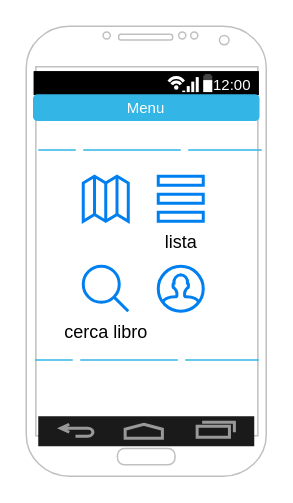
This 293x503 diagram has some shape labels left out. Here are the shapes that lost their labels. From the top down, the box of each, then its label:
(81, 174, 129, 222): mappa
(156, 264, 204, 312): area personale
